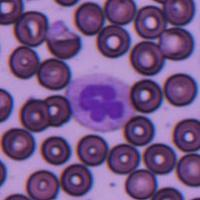N: (66, 72, 134, 132)
